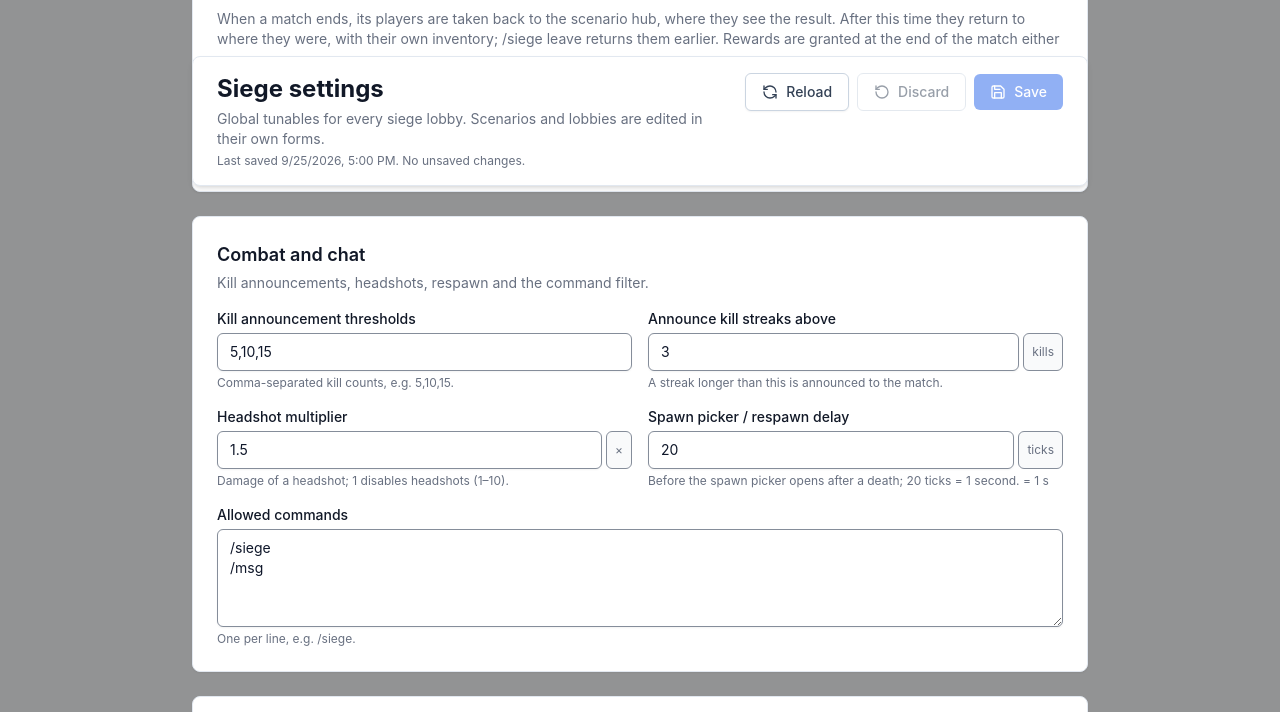
Test case: SiegeConfigurationPage › blocks saving invalid input and shows the API reason on a rejected save
(page scrolled)
Replace the text in the field showing "3" with "three" at (834, 352), box 648,333 -> 1019,371
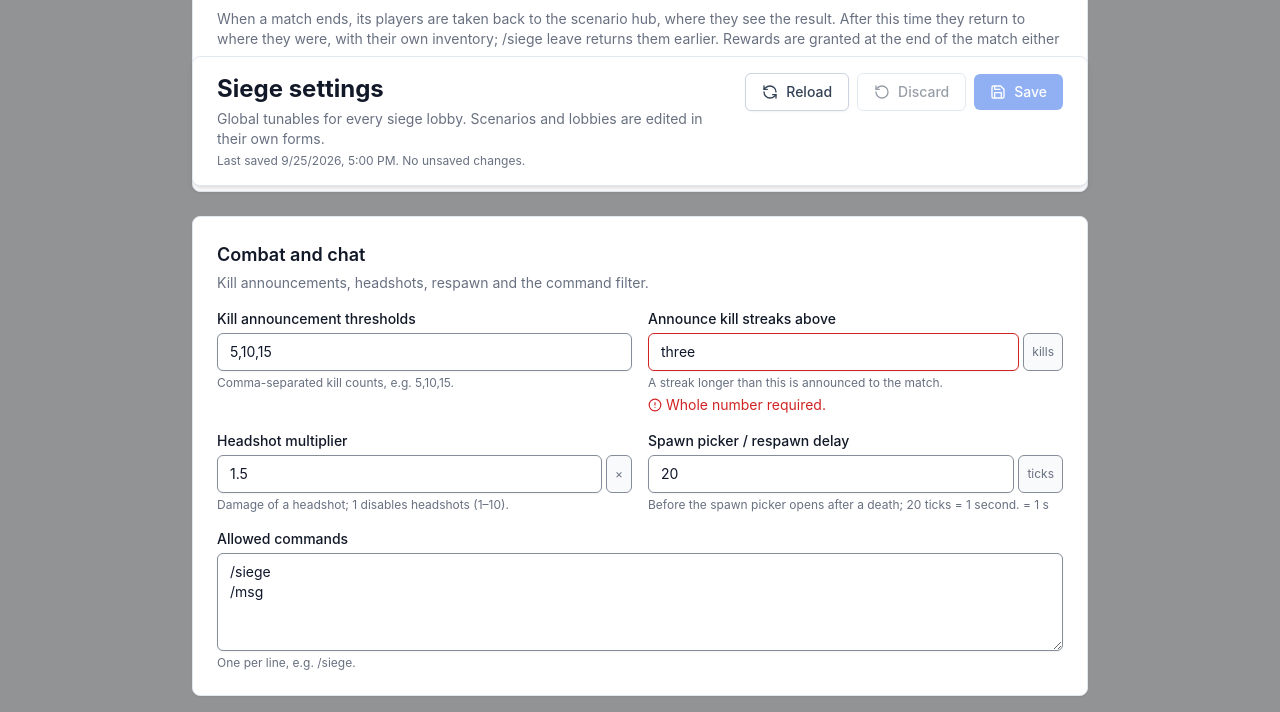
Expected: the button "Save" is disabled, 974,74 -> 1063,110
Expected: the text "Whole number required." is shown, 666,396 -> 826,413
Replace the text in the field showing "three" with "4" at (834, 352), box 648,333 -> 1019,371
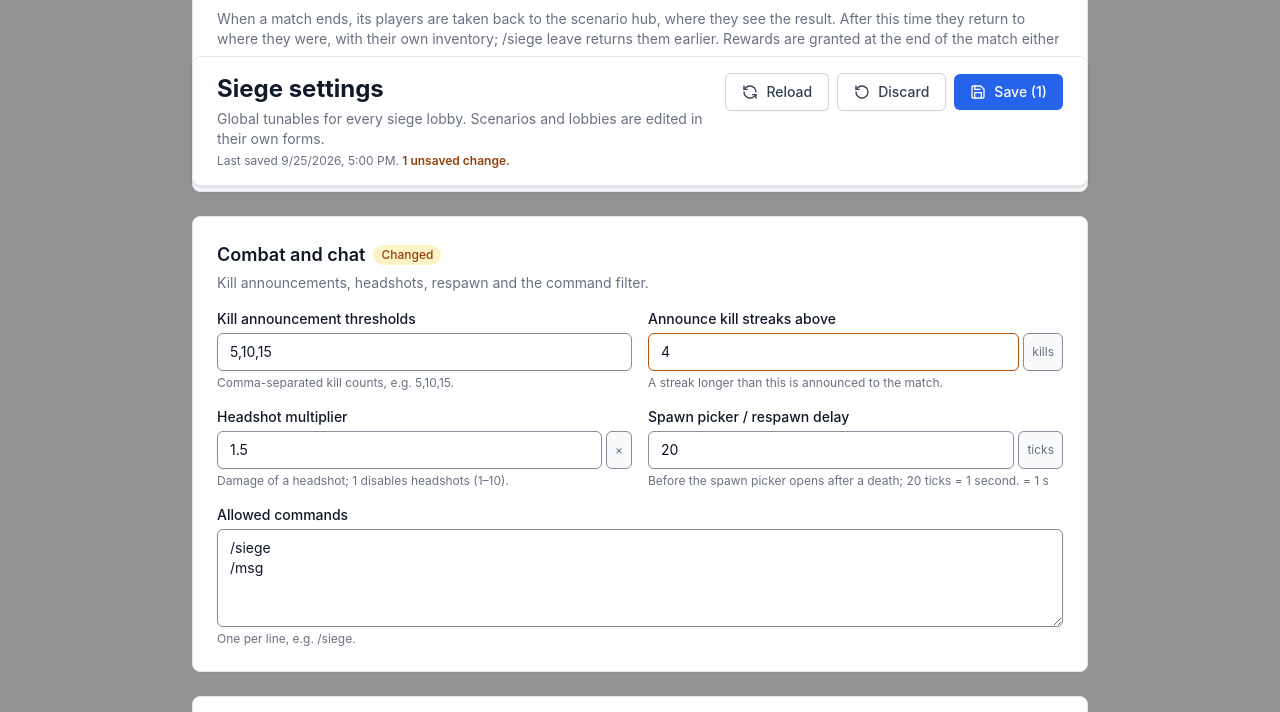
Replace the text in the field showing "1.5" with "99" at (410, 450), box 217,431 -> 602,469
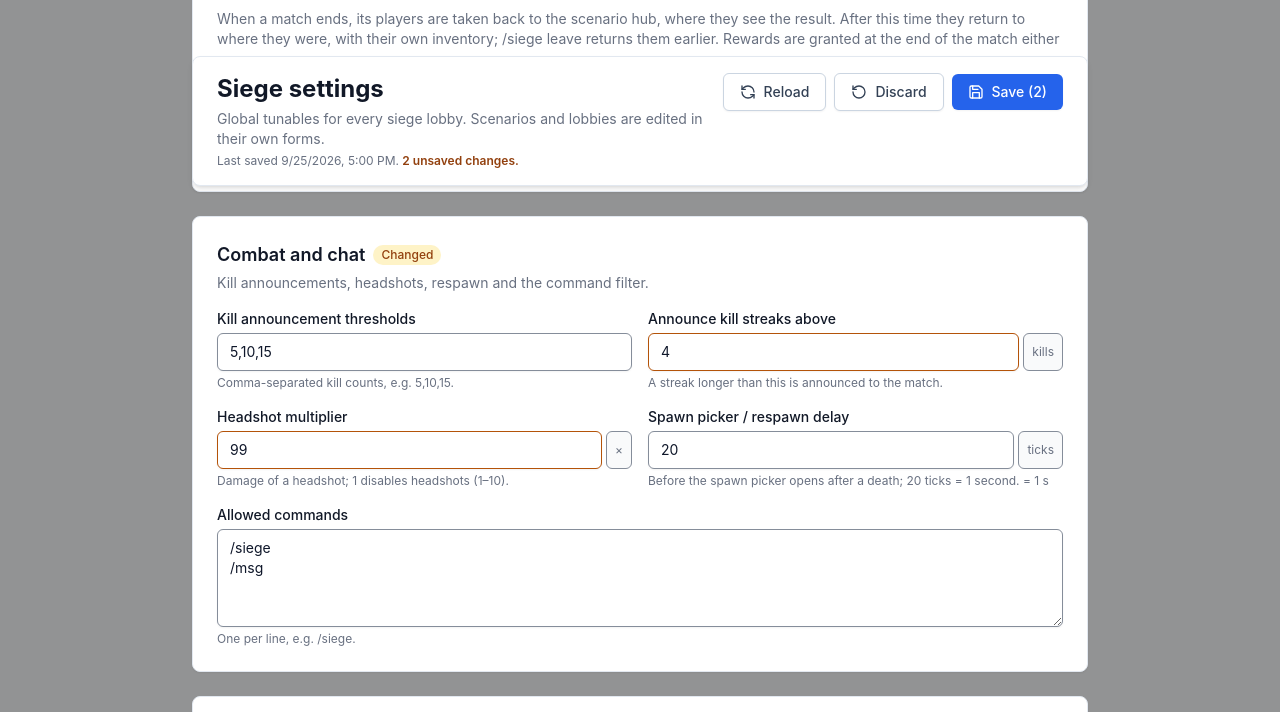
Click the button "Save (2)" at (1007, 92), box 952,74 -> 1063,110
(page scrolled)
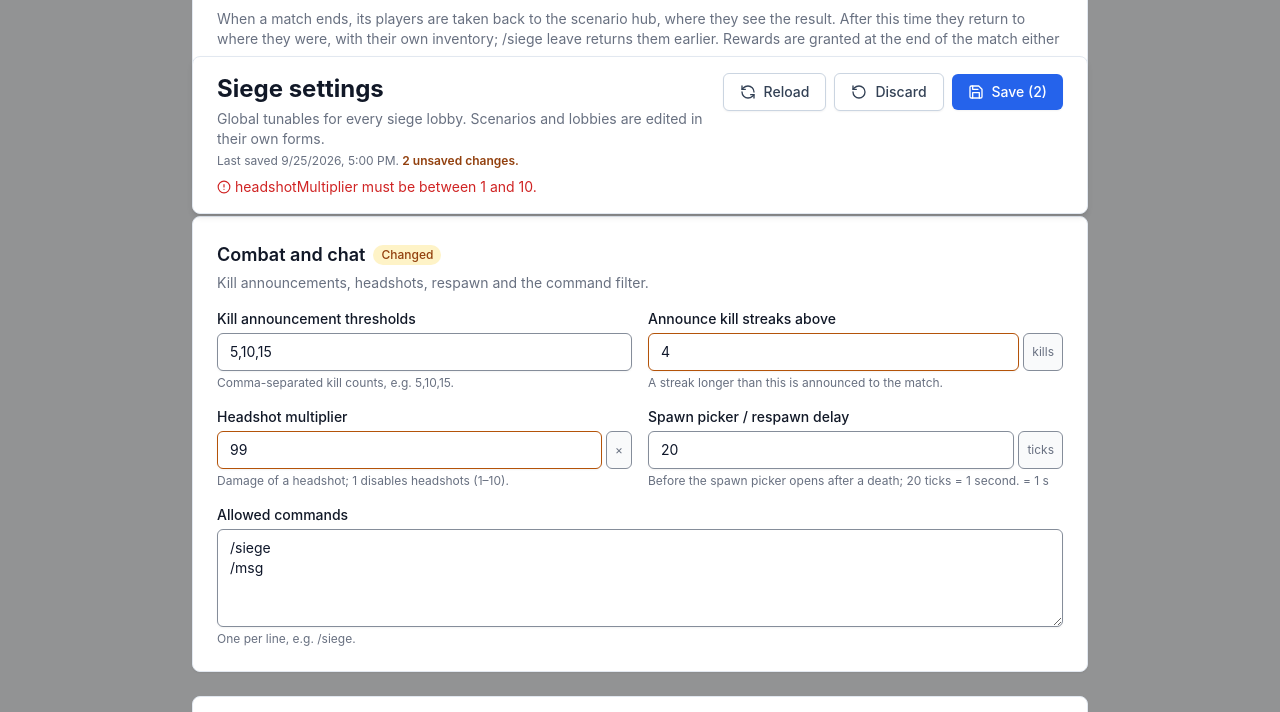
Expected: the text "headshotMultiplier must be between 1 and 10." is shown, 235,178 -> 537,195
